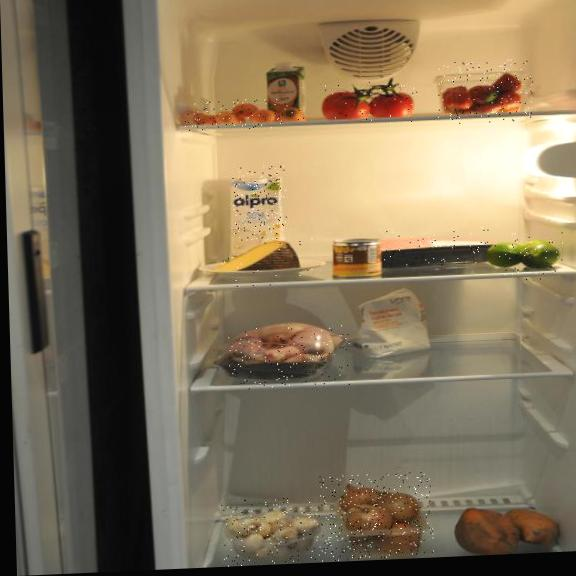carrots: (184, 97, 304, 132)
cheese: (220, 237, 314, 291)
chicken: (228, 324, 351, 390)
lime: (492, 230, 565, 281)
meat: (383, 226, 494, 268)
milk: (232, 166, 289, 247)
mushroom: (221, 496, 323, 567)
onion: (320, 471, 434, 561)
strawberry: (436, 58, 534, 125)
tomatoes: (323, 79, 419, 129)
